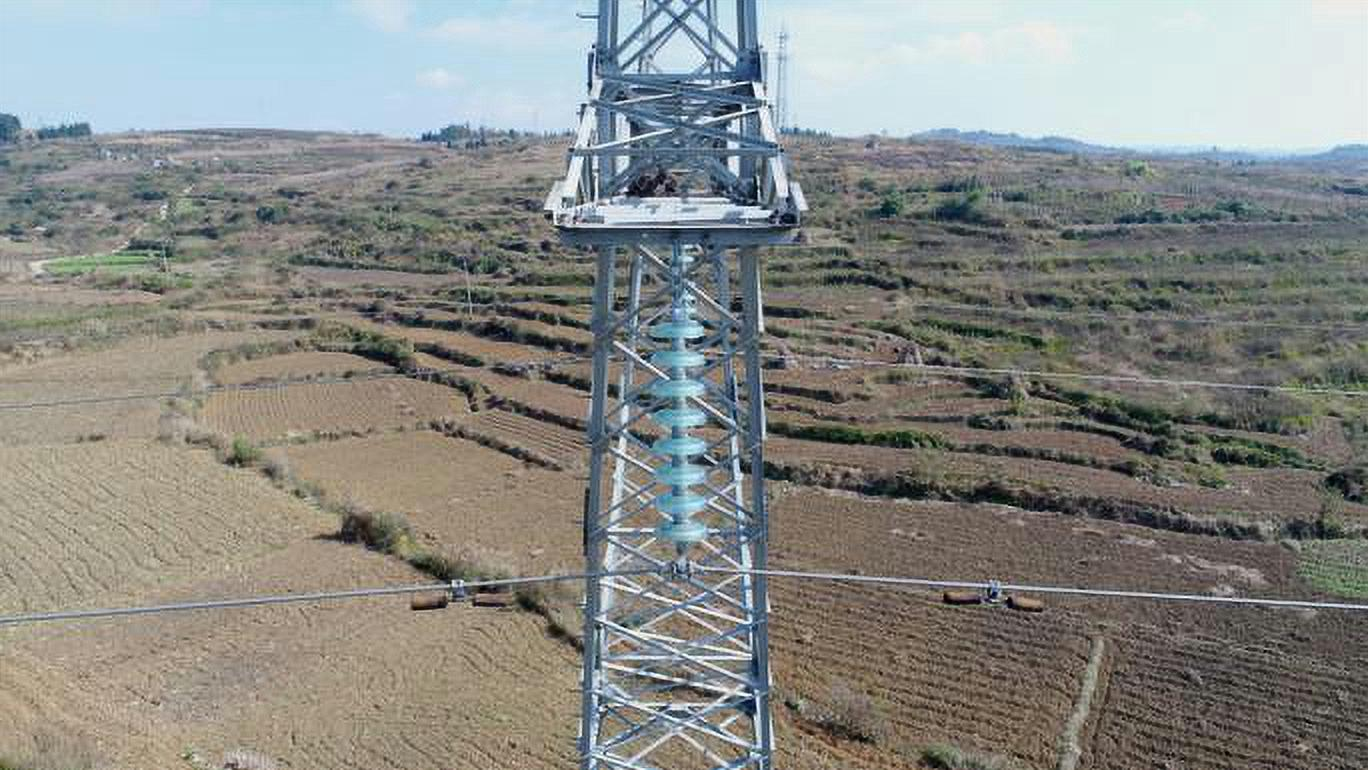insulator: (639, 315, 713, 550)
